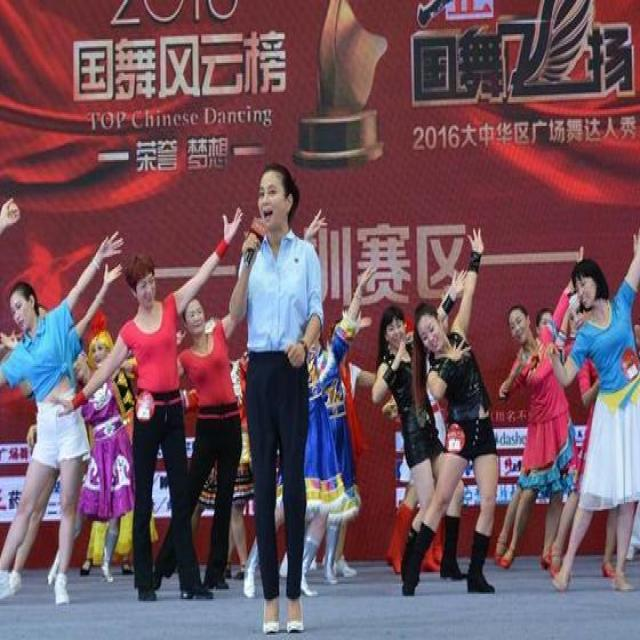non-fight: (216, 156, 331, 632), (0, 271, 101, 604), (104, 257, 202, 599), (398, 225, 486, 597), (544, 250, 639, 594)
